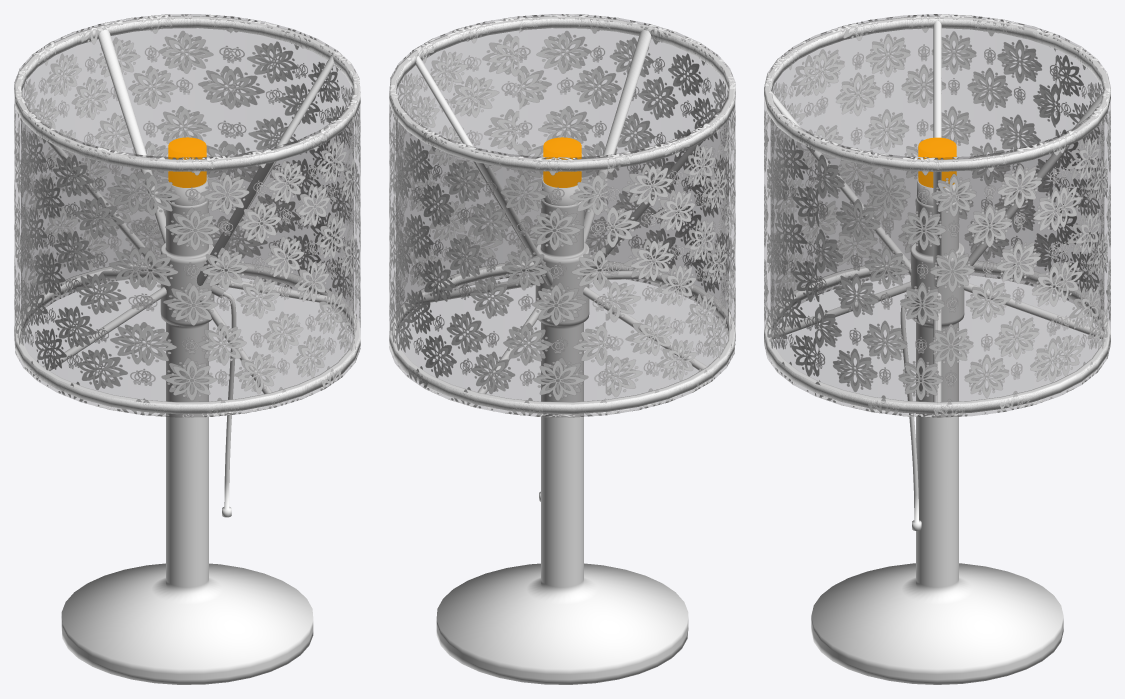
File: lamp.glb
3 views of the same model, side by side, from view 1: azimuth 30°, elevation 25°; view 2: azimuth 150°, elevation 25°; view 3: azimuth 270°, elevation 25° (orthographic).
Parts seen in each view (by area): view 1: case, iron.001, case.001, iron, lamp, BézierCurve; view 2: case, iron.001, case.001, iron, lamp; view 3: case, iron.001, case.001, iron, lamp, BézierCurve.
Boxes of the visible parts, x1=… form: case: x1=14, y1=14, x2=360, y2=417; iron.001: x1=61, y1=197, x2=313, y2=684; case.001: x1=14, y1=16, x2=360, y2=414; iron: x1=42, y1=29, x2=333, y2=393; lamp: x1=167, y1=137, x2=207, y2=205; BézierCurve: x1=222, y1=291, x2=236, y2=517; case: x1=389, y1=14, x2=735, y2=417; iron.001: x1=436, y1=197, x2=688, y2=684; case.001: x1=389, y1=16, x2=735, y2=414; iron: x1=416, y1=30, x2=707, y2=393; lamp: x1=542, y1=137, x2=582, y2=205; case: x1=764, y1=14, x2=1110, y2=417; iron.001: x1=811, y1=195, x2=1063, y2=684; case.001: x1=764, y1=16, x2=1110, y2=414; iron: x1=770, y1=21, x2=1104, y2=402; lamp: x1=917, y1=137, x2=957, y2=205; BézierCurve: x1=900, y1=300, x2=921, y2=530.
Size of the model in its own units: 0.4039 by 0.6996 by 0.4039.
6 materials, 1 textured.
